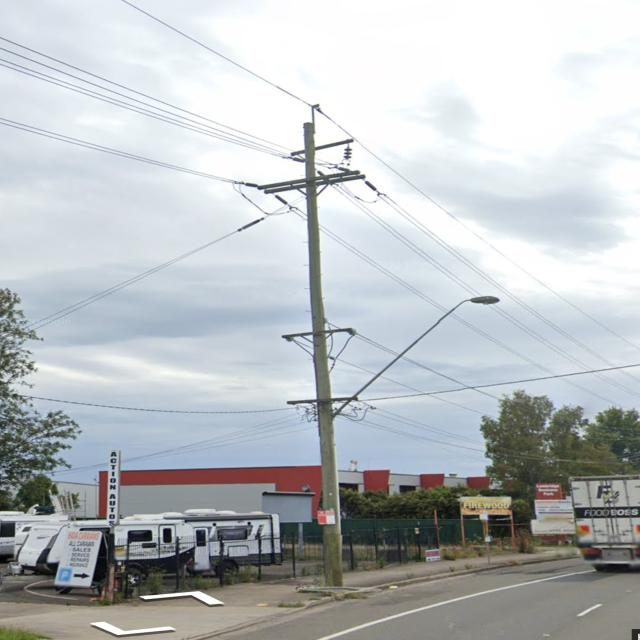HV-transmission: (238, 104, 378, 232)
crossarm: (257, 169, 360, 191), (264, 174, 364, 194), (290, 137, 352, 155), (284, 327, 357, 339), (286, 398, 358, 404)
streetlight: (332, 295, 502, 419)
timber-pole: (304, 123, 346, 588)
